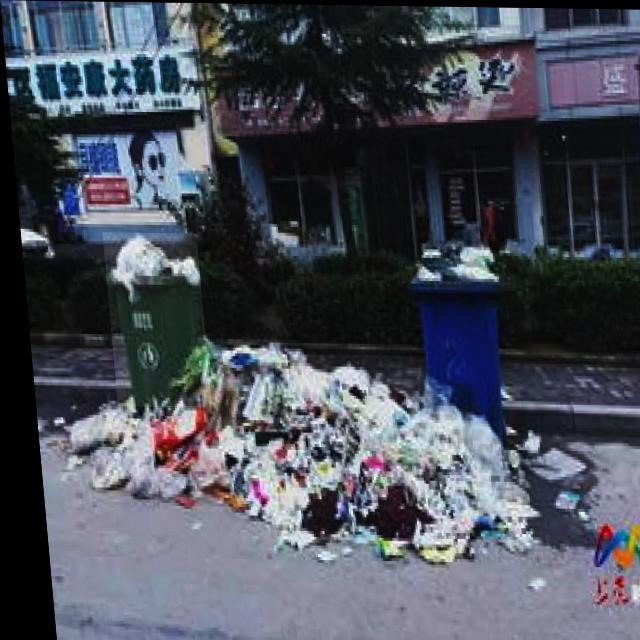garbage: (39, 327, 581, 562)
overflow: (396, 236, 503, 440), (98, 232, 204, 408)
